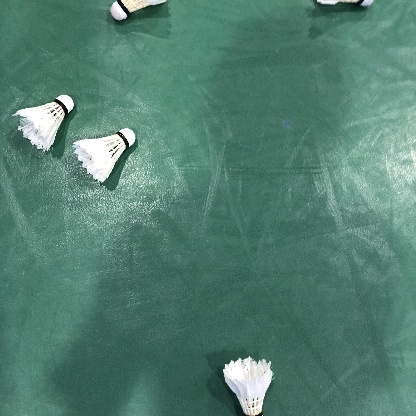ball_single: (12, 95, 74, 152), (72, 128, 136, 183), (223, 356, 273, 416), (110, 0, 167, 21)
